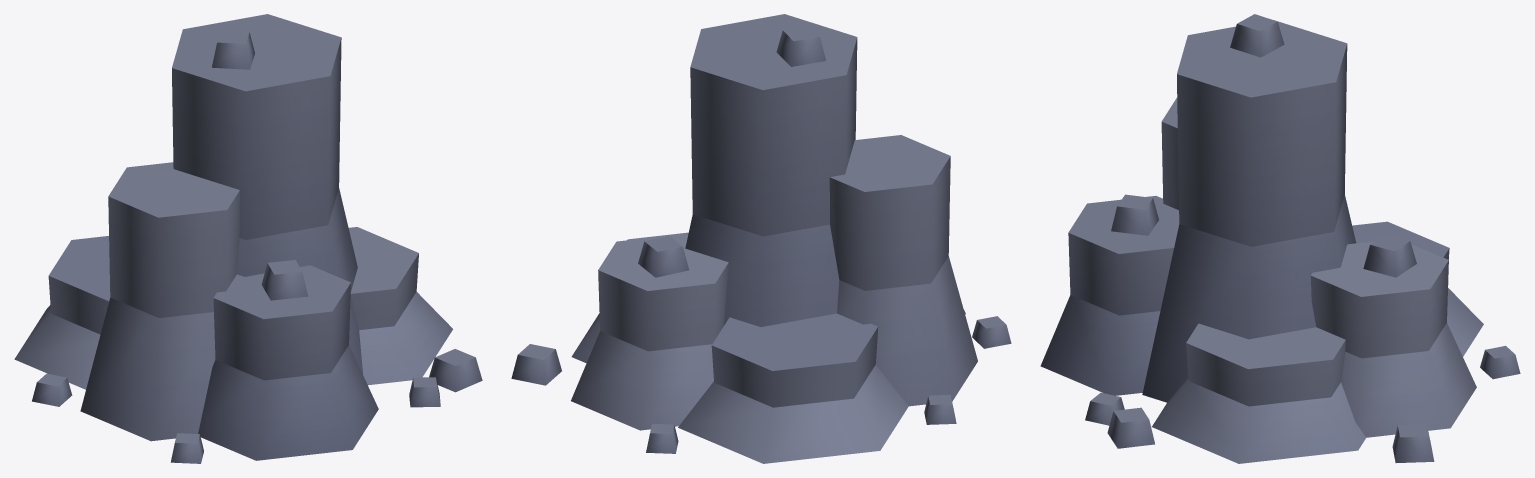
The model's file is kenney-pirate-rocks-b.glb.
3 views of the same model, side by side, from view 1: azimuth 30°, elevation 25°; view 2: azimuth 150°, elevation 25°; view 3: azimuth 270°, elevation 25° (orthographic). The views are drawn at different scales.
Parts seen in each view (by area): view 1: rocks-b; view 2: rocks-b; view 3: rocks-b.
Part boxes in pixels (box(x1,y1,x2,y2)): rocks-b: box(14, 14, 482, 463); rocks-b: box(511, 14, 1011, 463); rocks-b: box(1040, 14, 1520, 463).
Size of the model in its own units: 4.44 by 3.65 by 4.7.
1 material, 1 textured.
